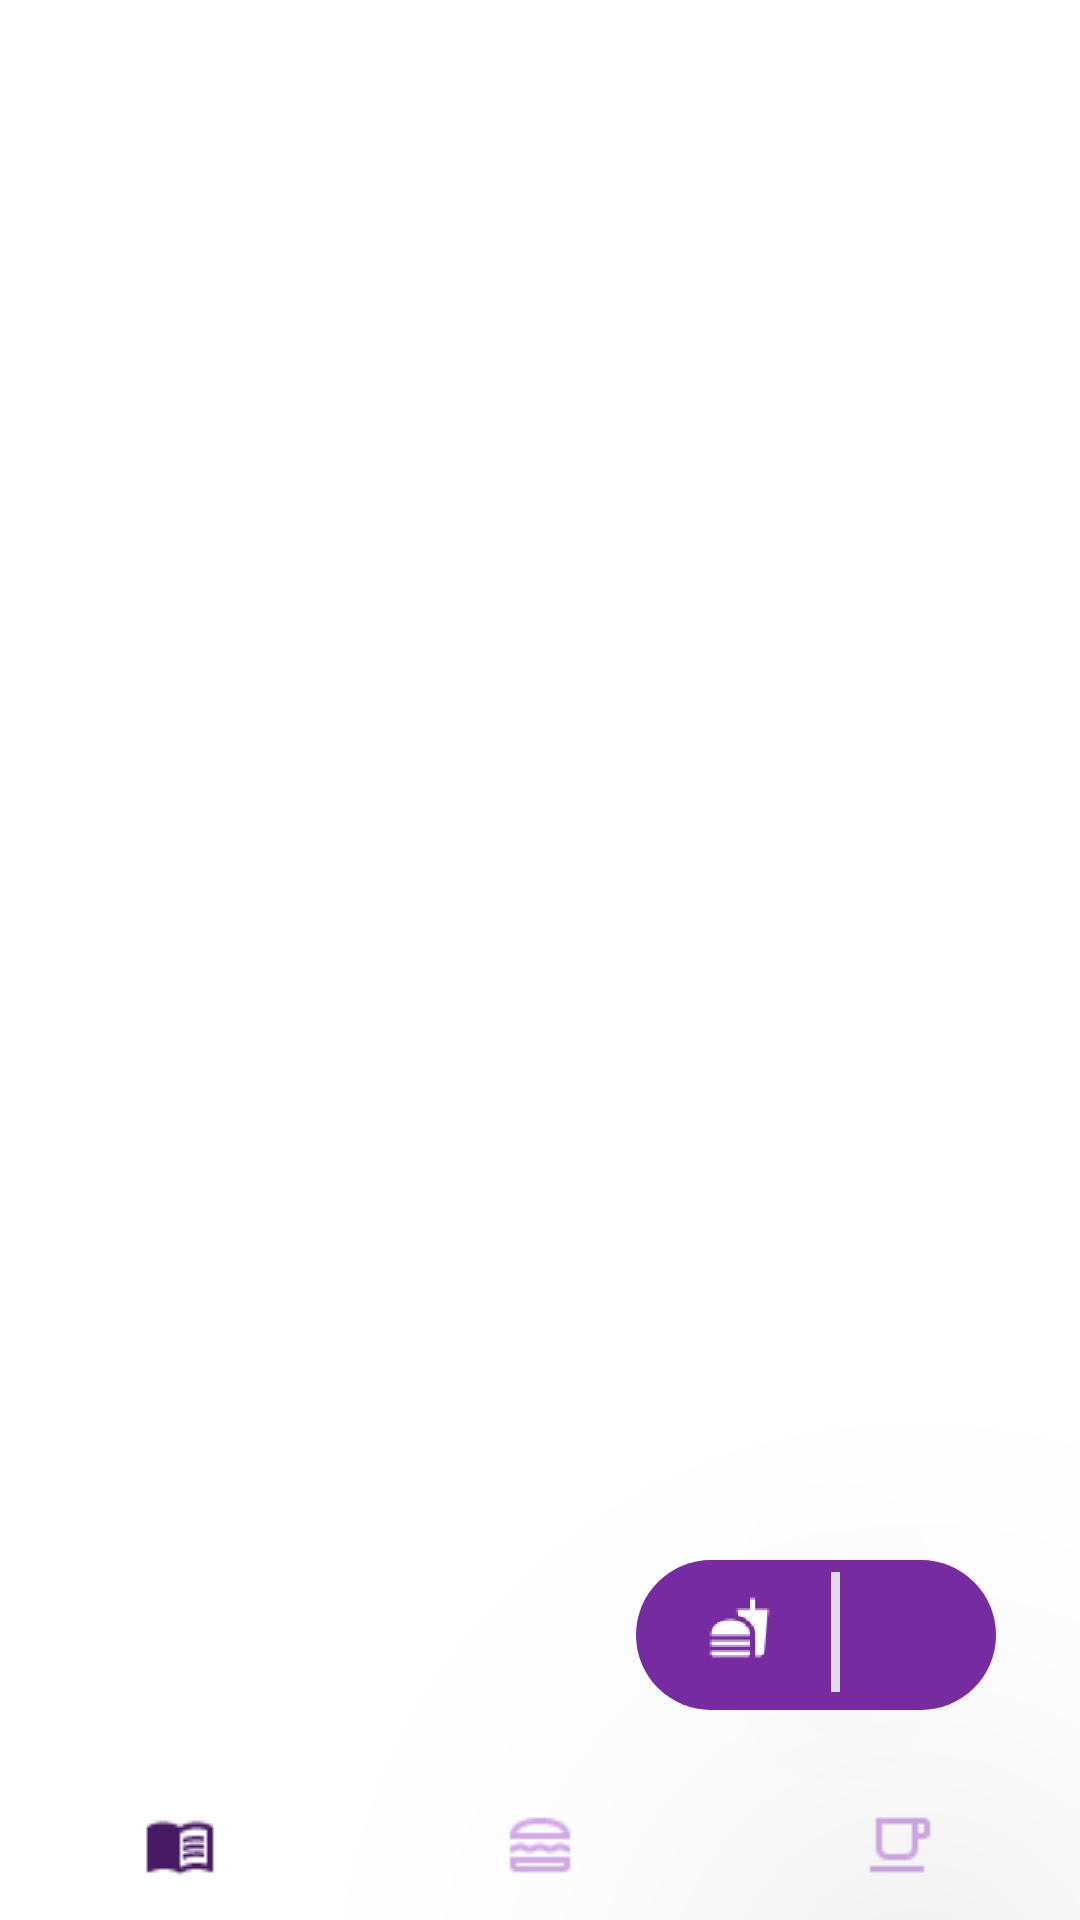

Screen size 1080*1920. Icon name, then its center in pixels as [x,y]:
food: [540,1845]
minuman: [900,1845]
